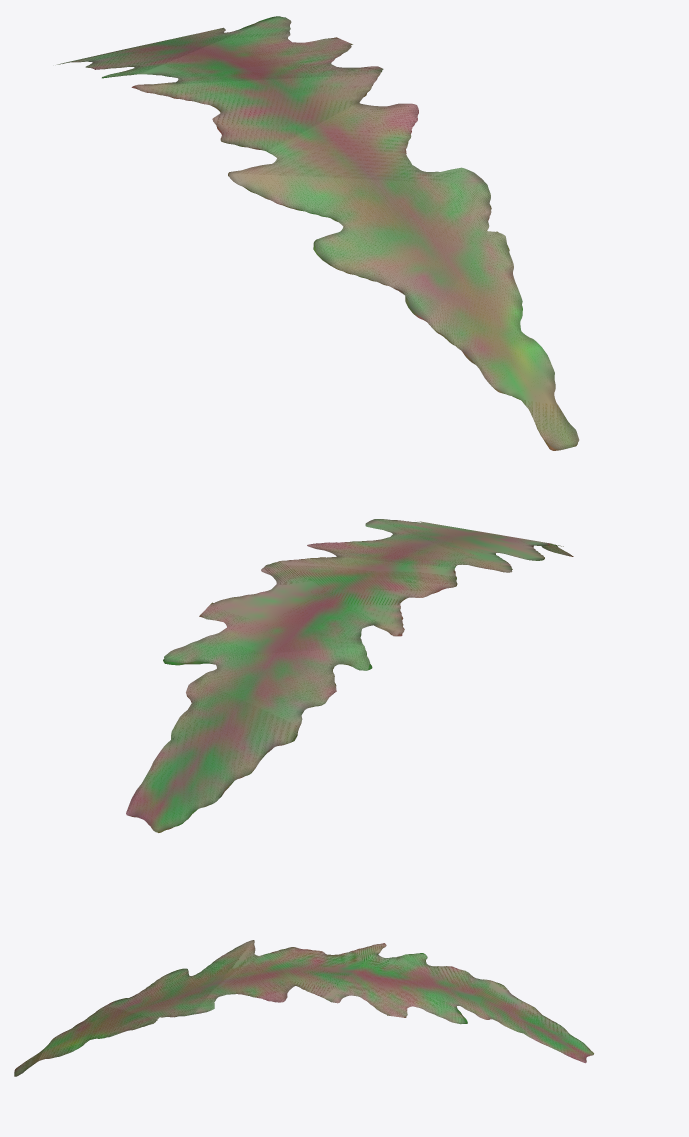
File: Spindlewit Leaf B.fbx
3 renders of one model, top to bottom at view 1: azimuth 30°, elevation 25°; view 2: azimuth 150°, elevation 25°; view 3: azimuth 270°, elevation 25°, orthographic. The views are drawn at different scales.
Visible parts, largest first — view 1: Spindlewit Leaf B; view 2: Spindlewit Leaf B; view 3: Spindlewit Leaf B.
Part boxes in pixels (left/top/right/bottom): Spindlewit Leaf B: left=57, top=16, right=579, bottom=450; Spindlewit Leaf B: left=126, top=519, right=573, bottom=832; Spindlewit Leaf B: left=14, top=940, right=593, bottom=1076.
Size of the model in its own units: 19.78 by 15.22 by 76.15.
